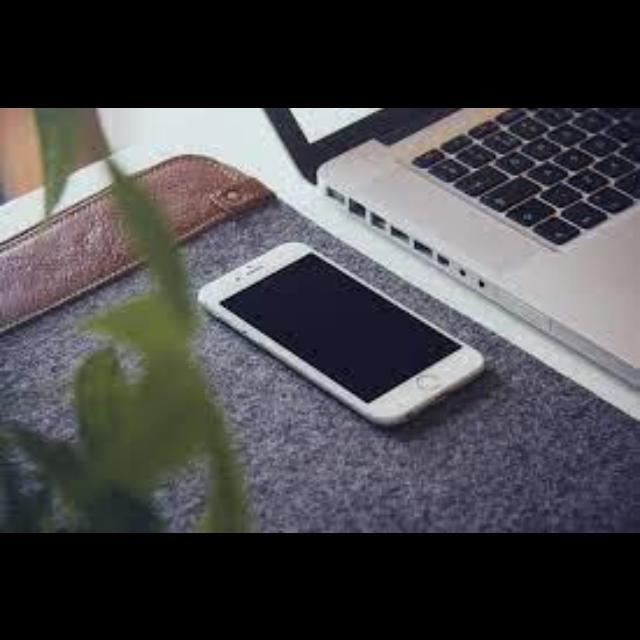phone: (193, 196, 496, 470)
